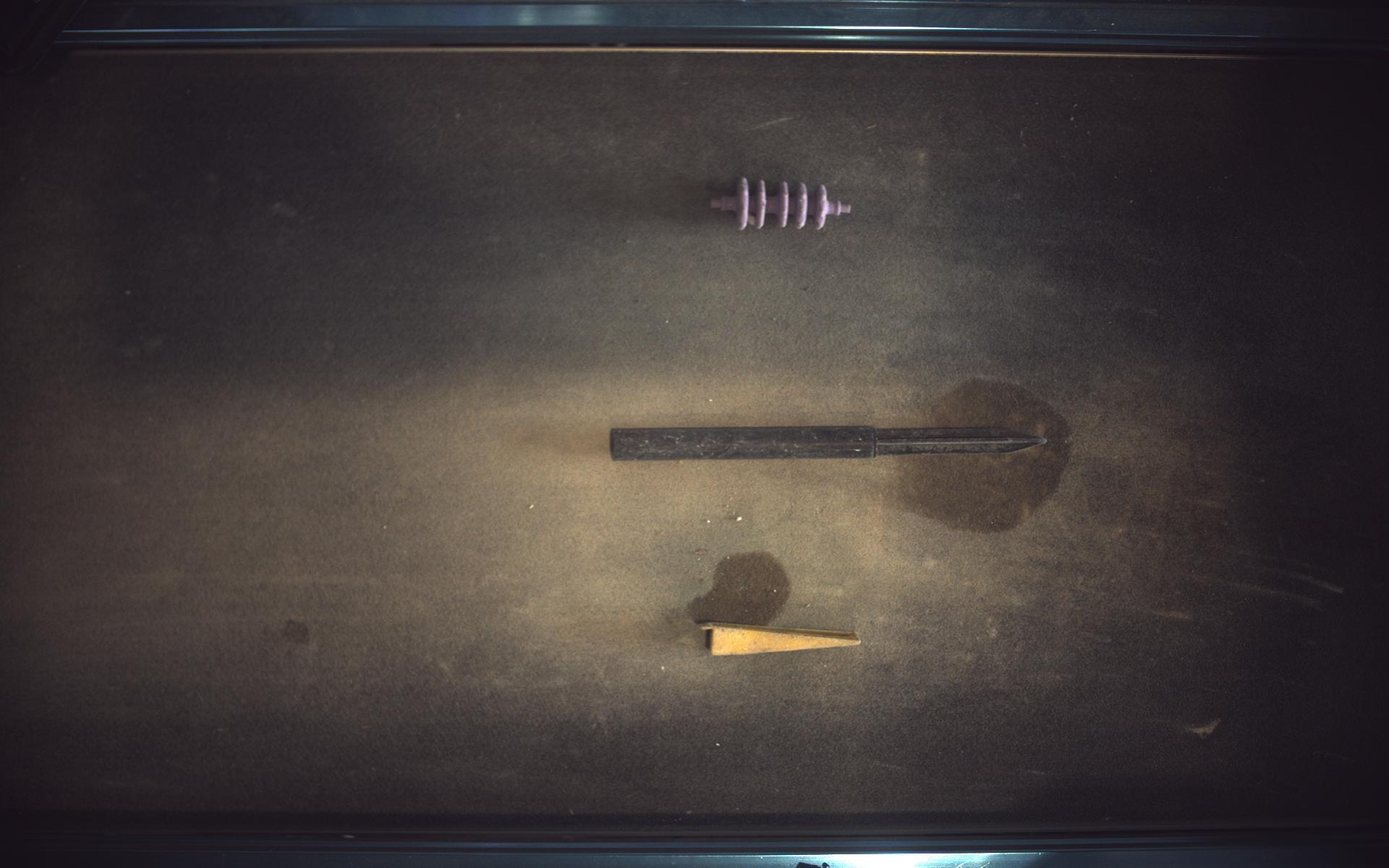plastic: (611, 425, 1048, 461), (712, 176, 852, 229), (700, 623, 862, 657)
